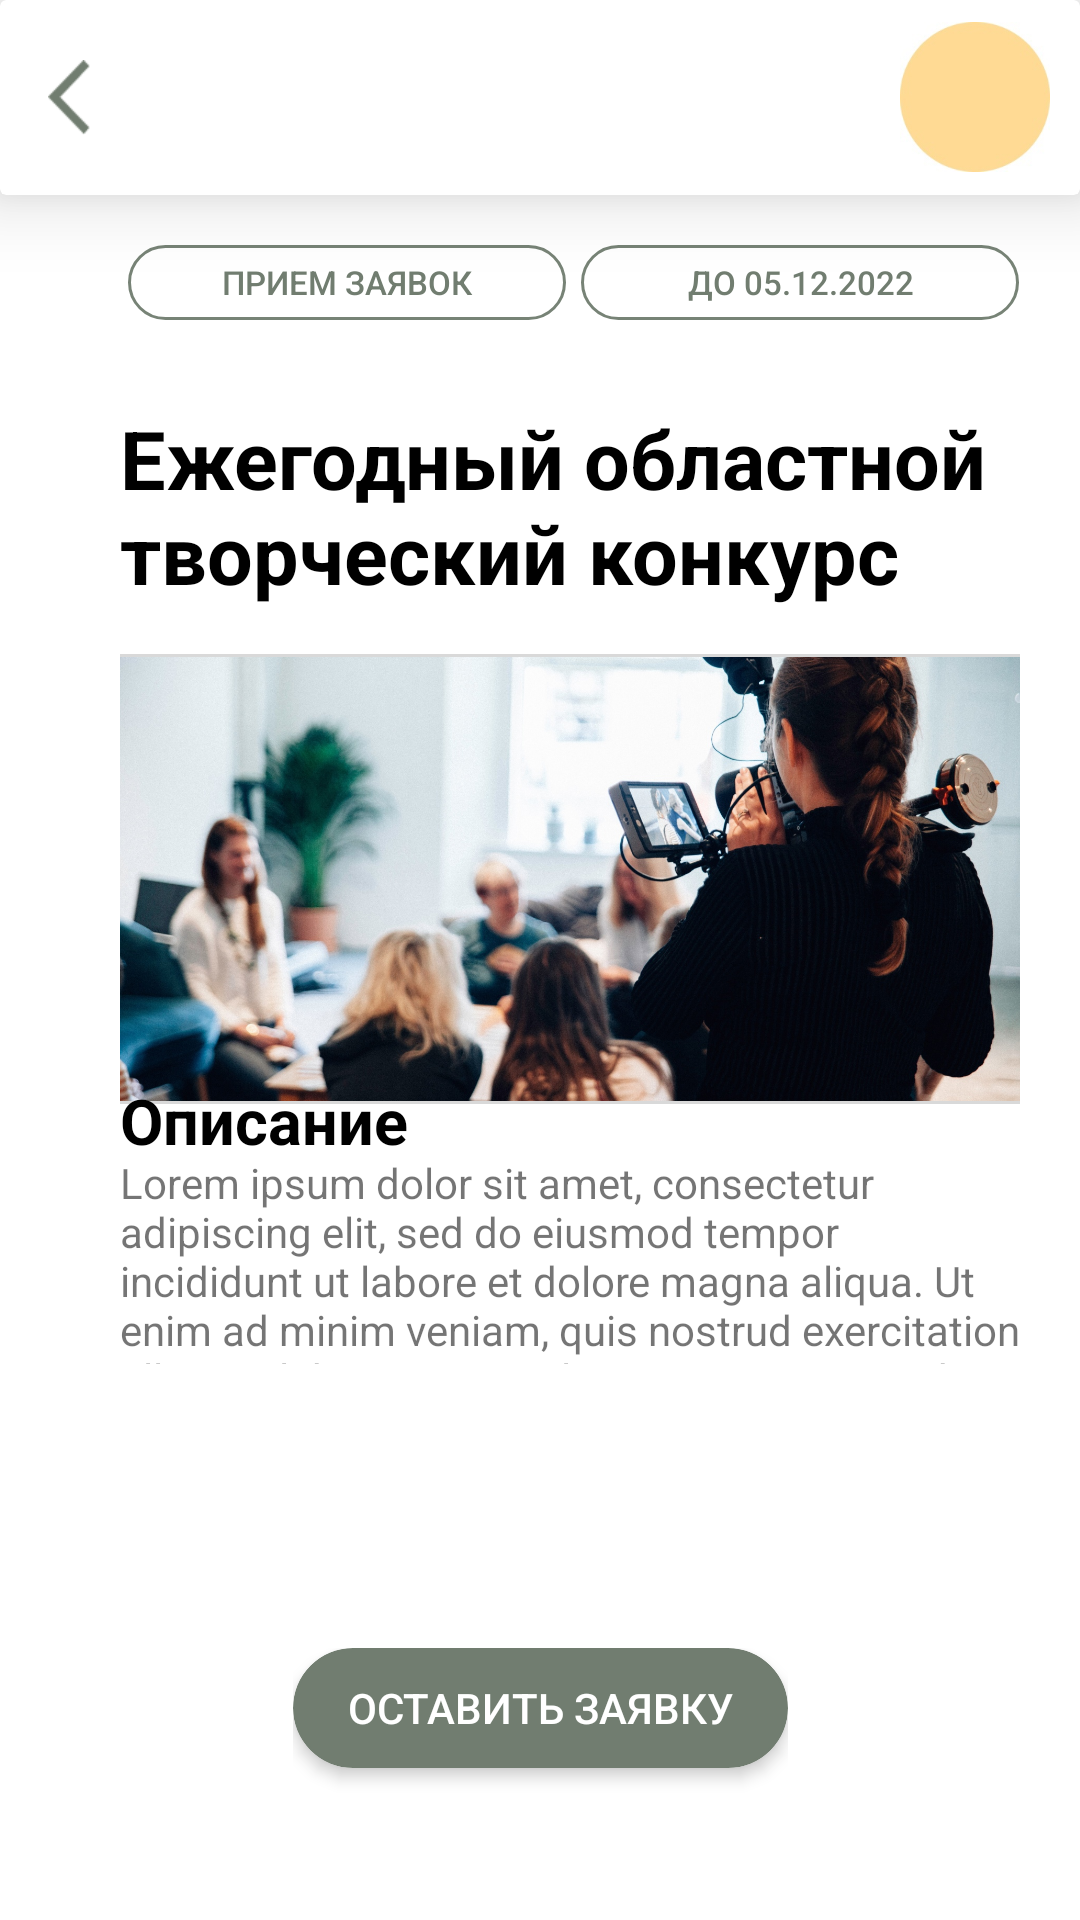

Icons on this 1080 x 1920 Android screen, each with its box as (x1, y1, x2, y2):
exit: (48, 60, 90, 134)
